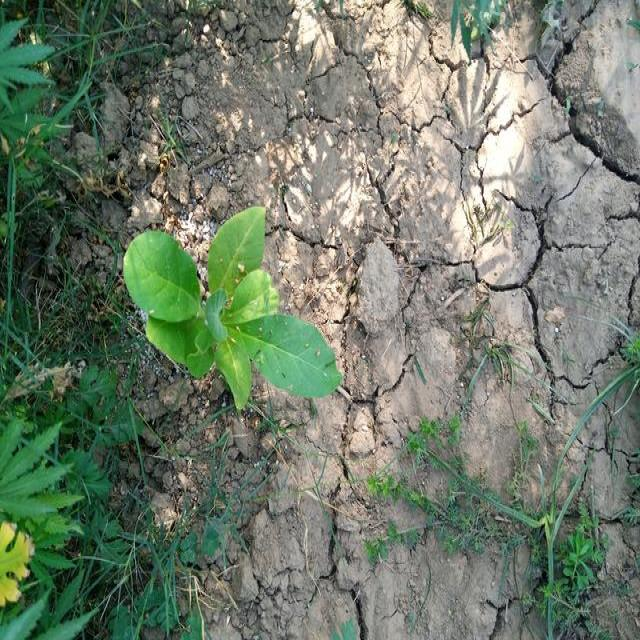crop: (121, 206, 342, 413)
